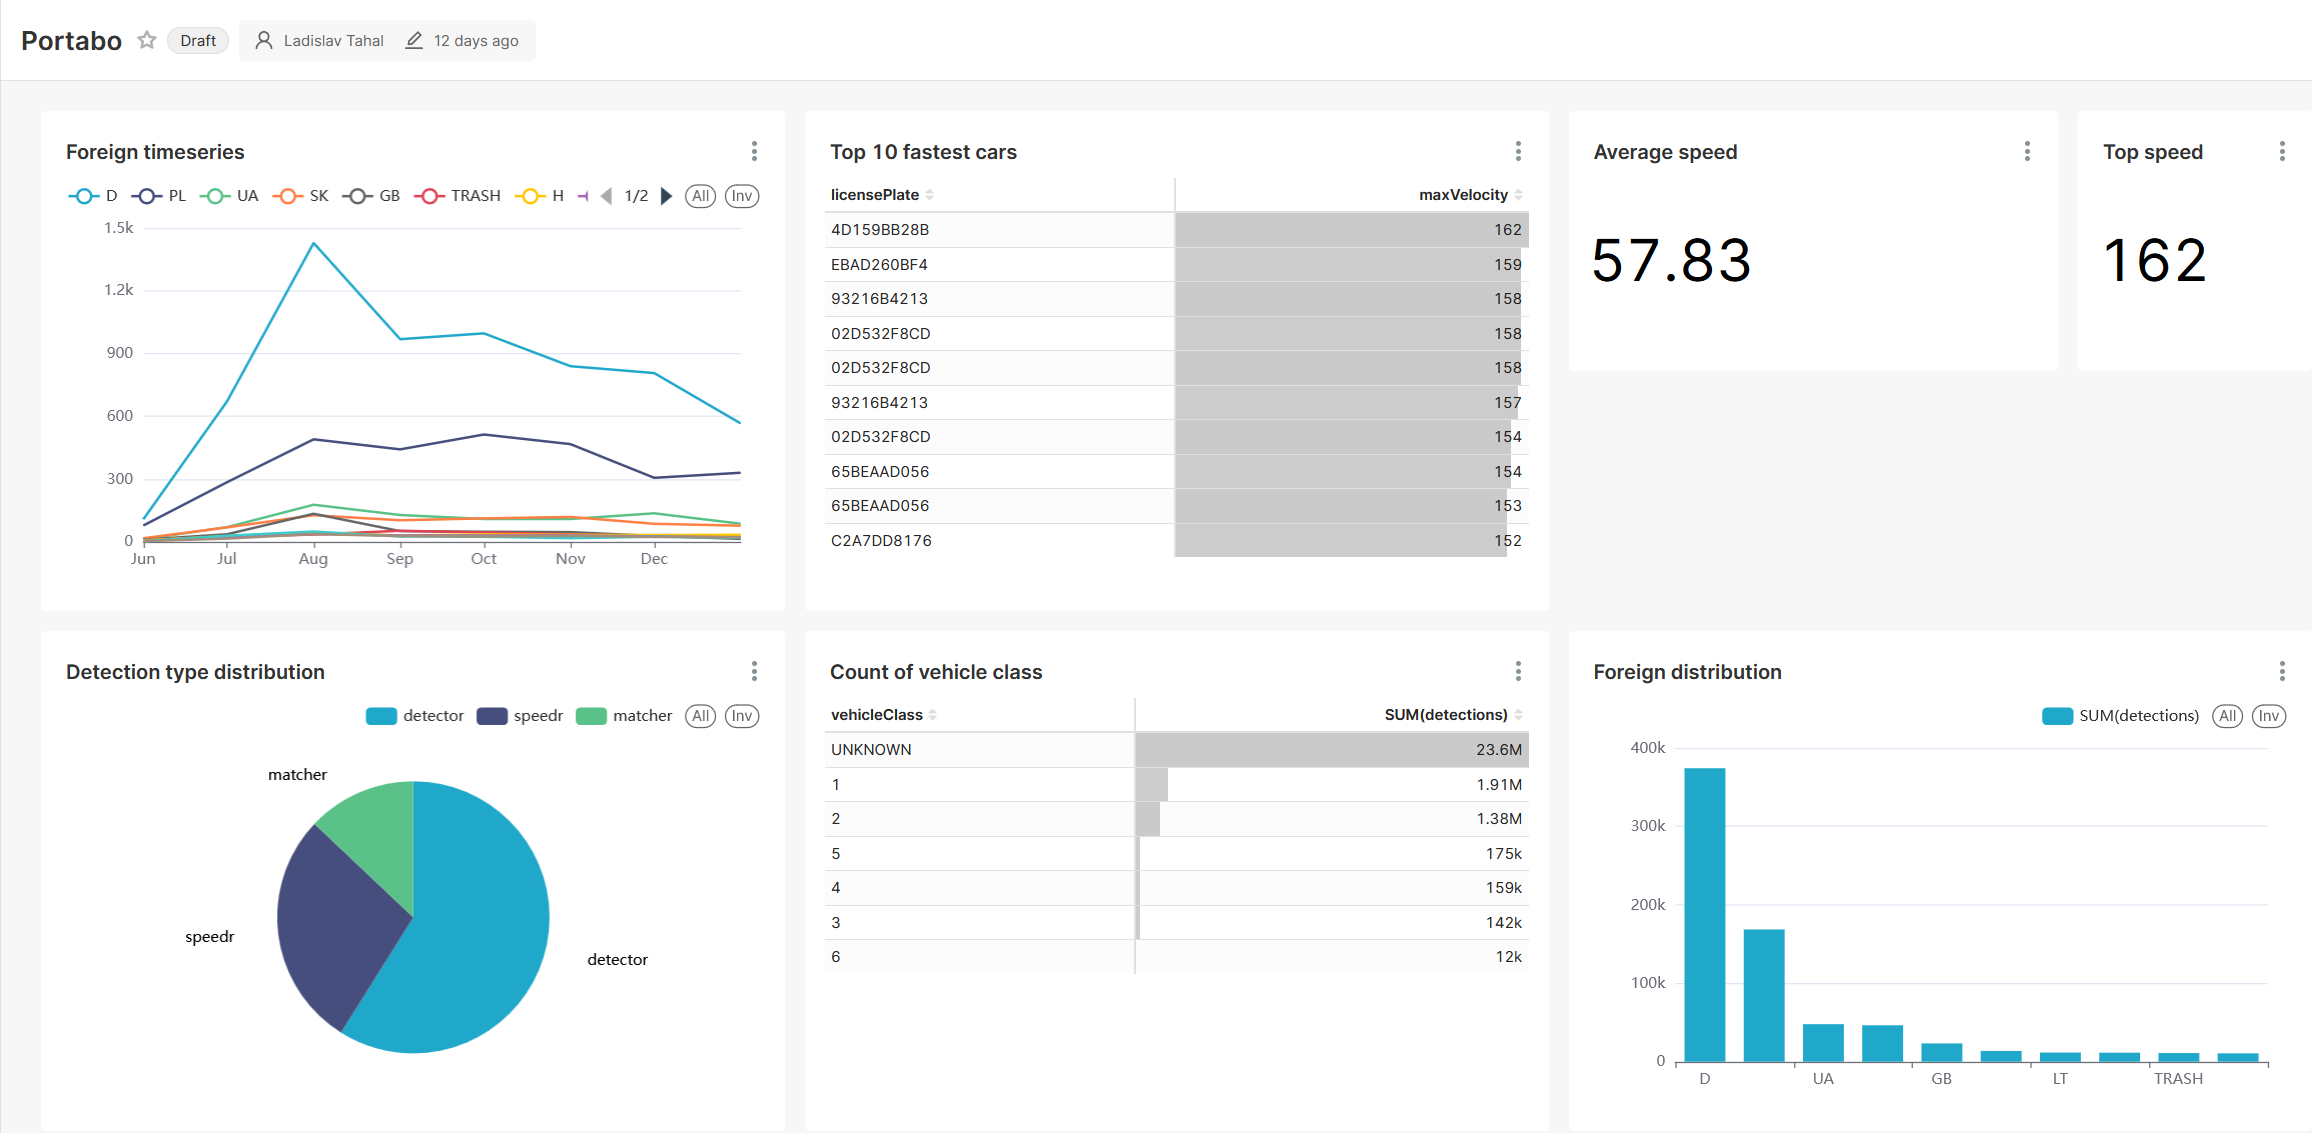

What the dashboard file says about the page in this screenshot:
{"tool":"powerbi","page":{"name":"Bílina kamera","canvas":[1280,720],"ordinal":0},"visuals":[{"type":"clusteredBarChart","title":"TOP10 fastest cars","fields":{"Category":["DimLP.LicensePlate"],"Y":["FactCameraDetection.Maximum of Velocity"]},"box":[14,200,328,500],"z":0},{"type":"textbox","box":[7,0,387,76],"z":1000},{"type":"pieChart","title":"Detection type distribution","fields":{"Y":["FactCameraDetection.Count of Velocity"],"Category":["DimDetectionType.DetectionType"]},"box":[360,407,507,311],"z":2000},{"type":"stackedAreaChart","title":"Number of passes per m&y&detection type","fields":{"Category":["DimTime.MonthYear"],"Y":["FactCameraDetection.Count of Velocity"],"Series":["DimDetectionType.DetectionType"]},"box":[360,89,631,302],"z":3000},{"type":"card","title":"Average speed","fields":{"Values":["FactCameraDetection.Average of Velocity"]},"box":[18.6,89.4,137,97],"z":4000},{"type":"card","title":"Top speed","fields":{"Values":["FactCameraDetection.Maximum of Velocity"]},"box":[156.6,89.4,158,97],"z":5000},{"type":"clusteredColumnChart","title":"Foreign distribution","fields":{"Category":["DimCountry.CountryCode"],"Y":["FactCameraDetection.Count of Velocity"]},"box":[892,407,374,311],"z":6000},{"type":"slicer","fields":{"Values":["DimTime.Date hierarchy.FullDate"]},"box":[771,7,241,46],"z":7000},{"type":"textbox","box":[691,16,116,34],"z":8000},{"type":"tableEx","title":"Count of vehicle class","fields":{"Values":["DimVehicleClass.VehicleClass","FactCameraDetection.Count of Velocity"]},"box":[1029,96,211,287],"z":9000}]}

Visuals, with their boxes on the page's 1280x720 design canvas (x1, y1, x2, y2). These are canvas units, not pixel positions in the 2312x1133 screenshot, which may show the page scaled, cropped or inside an application window:
"TOP10 fastest cars" clusteredBarChart: bbox=[14, 200, 342, 700]
textbox: bbox=[7, 0, 394, 76]
"Detection type distribution" pieChart: bbox=[360, 407, 867, 718]
"Number of passes per m&y&detection type" stackedAreaChart: bbox=[360, 89, 991, 391]
"Average speed" card: bbox=[19, 89, 156, 186]
"Top speed" card: bbox=[157, 89, 315, 186]
"Foreign distribution" clusteredColumnChart: bbox=[892, 407, 1266, 718]
slicer - DimTime.Date hierarchy.FullDate: bbox=[771, 7, 1012, 53]
textbox: bbox=[691, 16, 807, 50]
"Count of vehicle class" tableEx: bbox=[1029, 96, 1240, 383]
